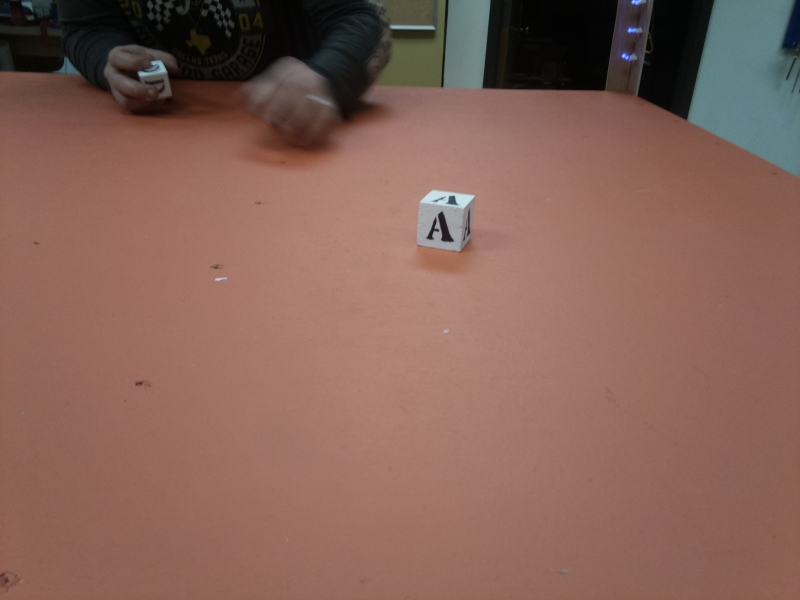blockA: (417, 189, 480, 255)
corner: (603, 1, 652, 104)
